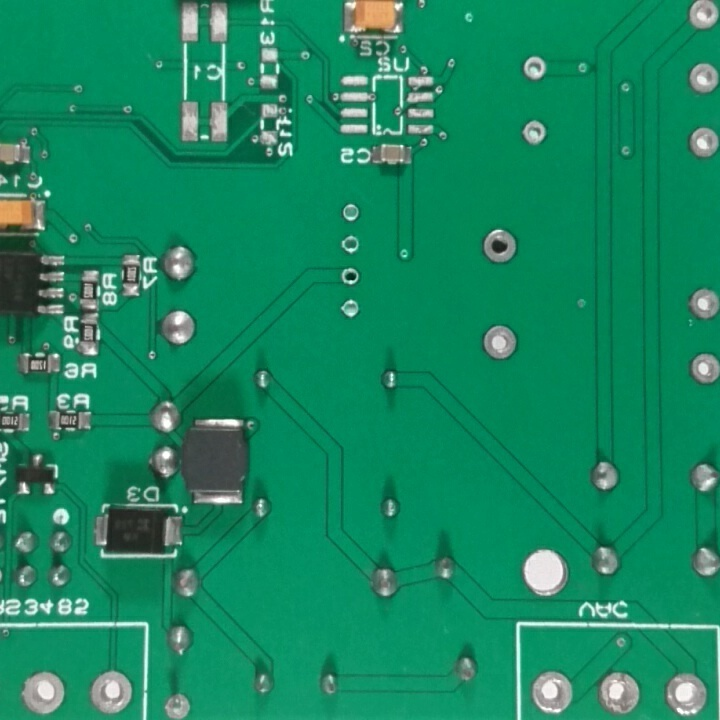F: (11, 667, 67, 718), (84, 666, 138, 715), (662, 667, 710, 720), (597, 667, 641, 718), (528, 668, 573, 717), (478, 225, 522, 266), (480, 320, 519, 365), (684, 284, 720, 325), (685, 349, 720, 389), (153, 689, 196, 720), (686, 59, 720, 98), (683, 1, 720, 35), (686, 123, 720, 160), (517, 115, 550, 147), (519, 53, 550, 86), (337, 233, 366, 258), (339, 298, 364, 324), (339, 198, 363, 224), (337, 266, 361, 289)
